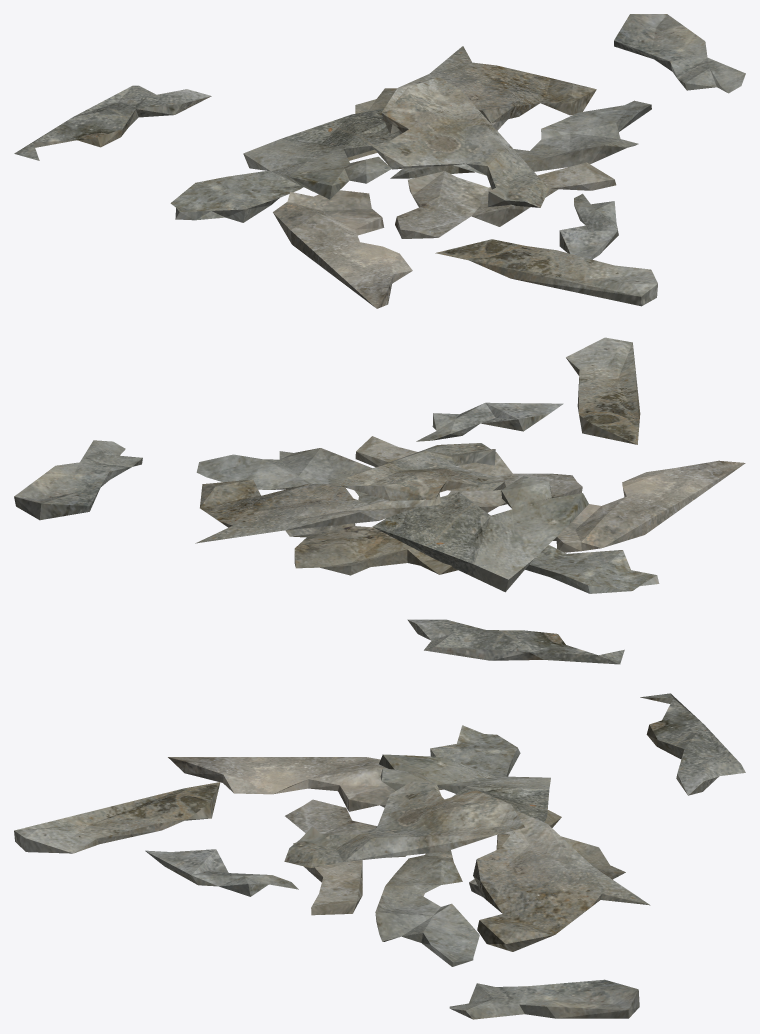
File: rubble2.glb
3 renders of one model, top to bottom at view 1: azimuth 30°, elevation 25°; view 2: azimuth 150°, elevation 25°; view 3: azimuth 270°, elevation 25°, orthographic. The views are drawn at different scales.
Parts seen in each view (by area): view 1: RUBBLE02; view 2: RUBBLE02; view 3: RUBBLE02.
Boxes of the visible parts, x1,y1,x2,y2 form: RUBBLE02: (14,14,745,308); RUBBLE02: (14,337,745,664); RUBBLE02: (14,693,745,1019).
Size of the model in its own units: 3.28 by 0.3113 by 3.2.
Materials: 1 (1 with a texture image).
